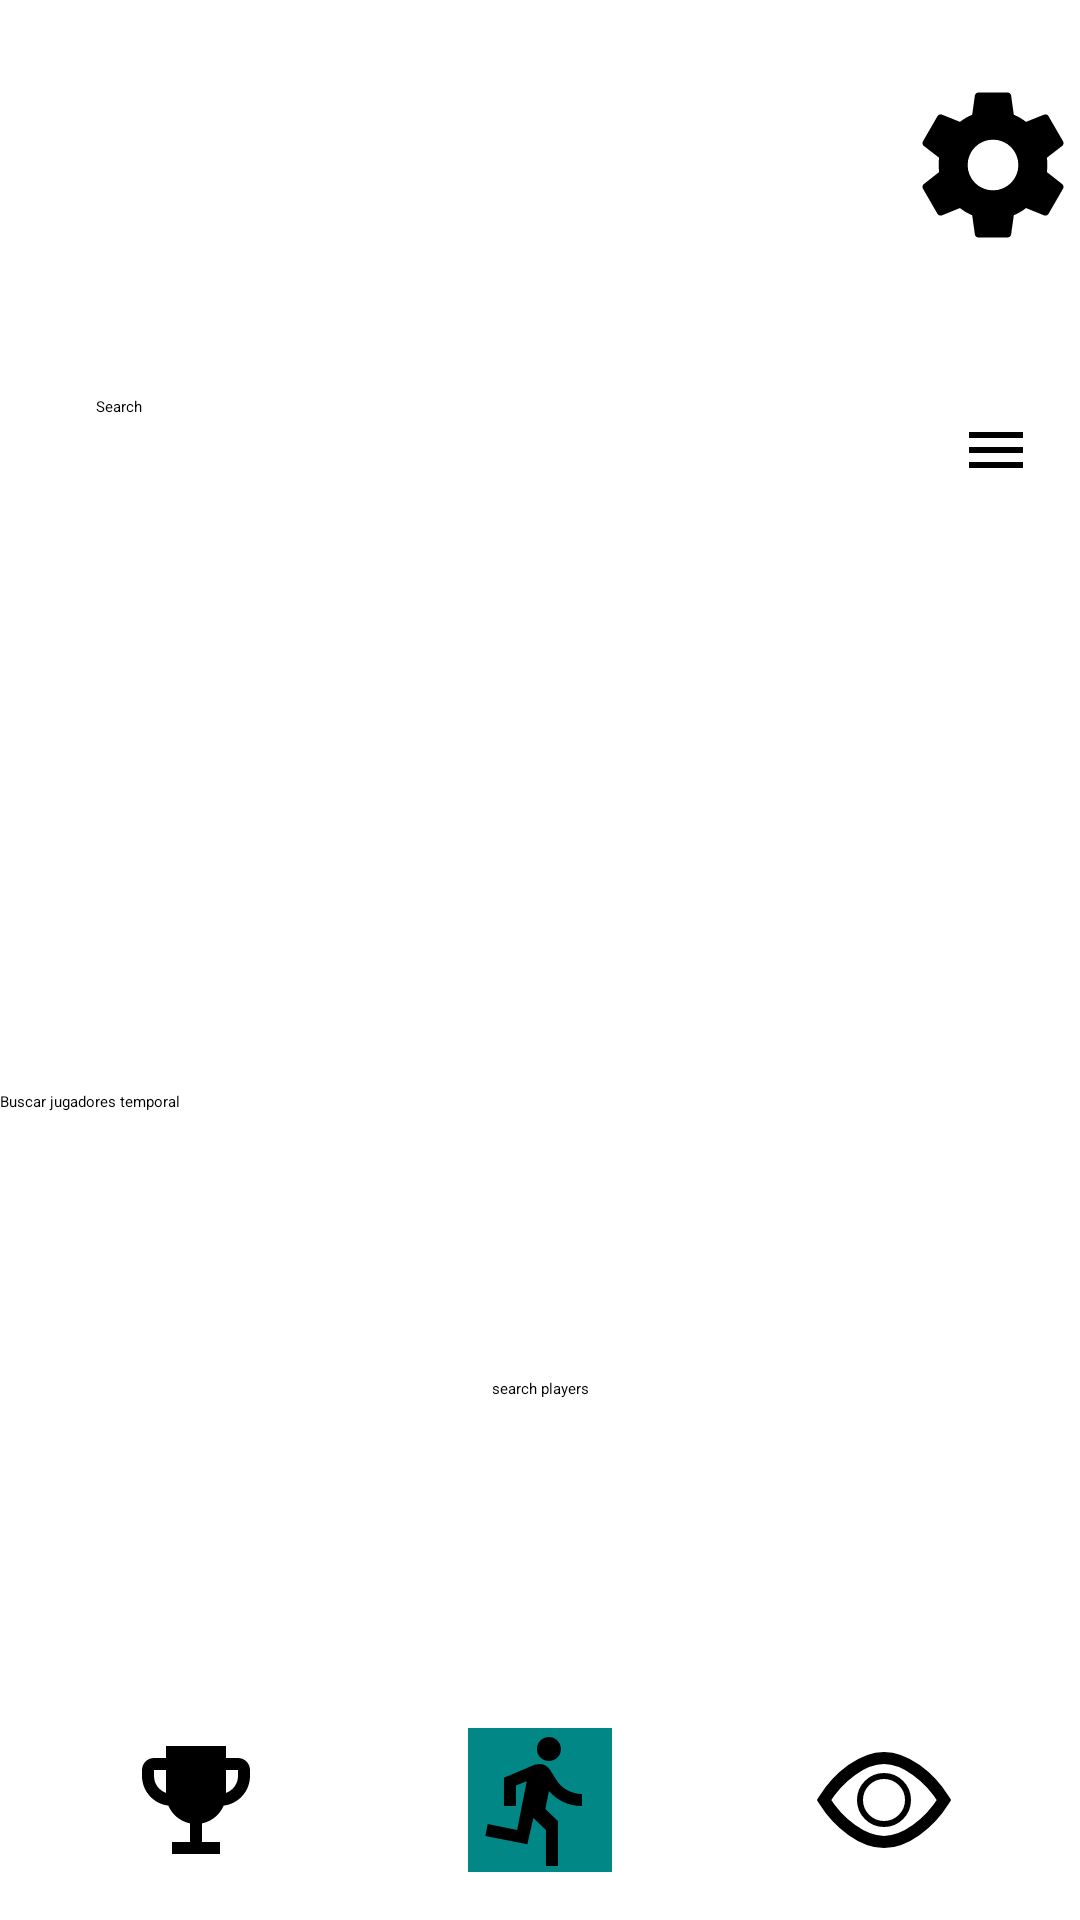

Where icons sit on this 1080*1920 app screen, as (x1, y1, x2, y2):
Filters: (969, 432, 1023, 468)
Get Players: (468, 1728, 612, 1872)
Get Results: (142, 1746, 250, 1854)
Go to Scouts: (817, 1752, 951, 1848)
Settings: (922, 92, 1064, 238)
